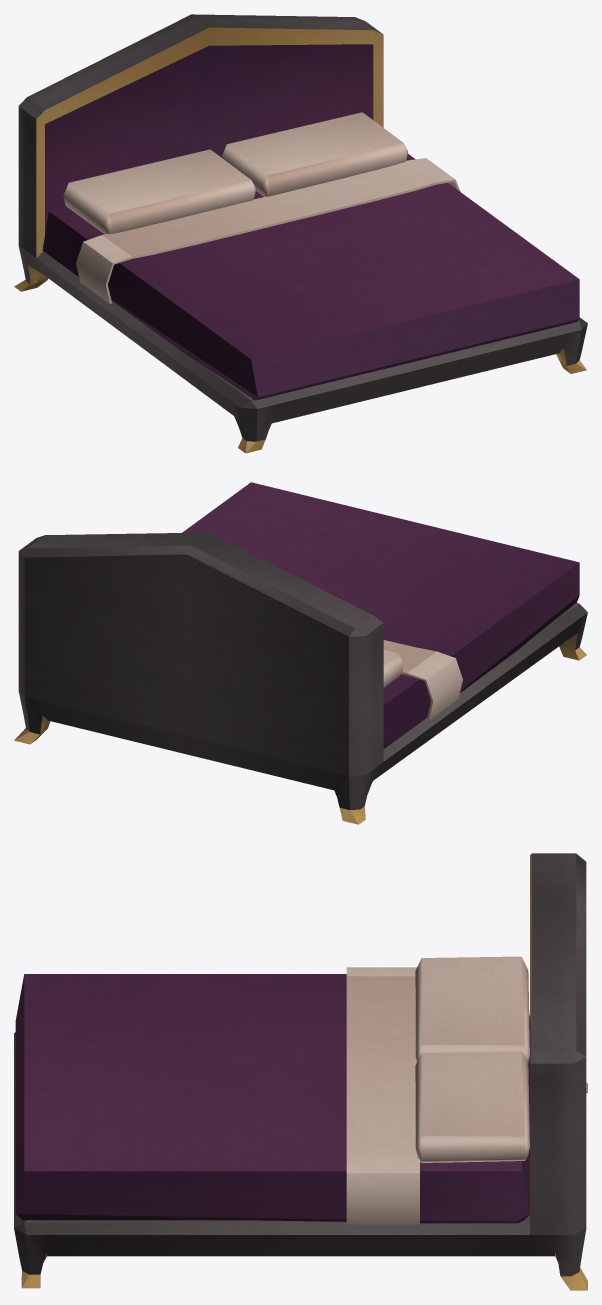
The model's file is SM_full_bed_00.fbx.
3 views of the same model, one above another, from view 1: azimuth 30°, elevation 25°; view 2: azimuth 150°, elevation 25°; view 3: azimuth 270°, elevation 25° (orthographic). The views are drawn at different scales.
Visible parts, largest first — view 1: SM_full_bed_00; view 2: SM_full_bed_00; view 3: SM_full_bed_00.
Boxes of the visible parts, <box> form: SM_full_bed_00: <box>14,14,587,453</box>; SM_full_bed_00: <box>14,482,587,824</box>; SM_full_bed_00: <box>14,853,587,1290</box>.
Size of the model in its own units: 2.66 by 1.66 by 3.
